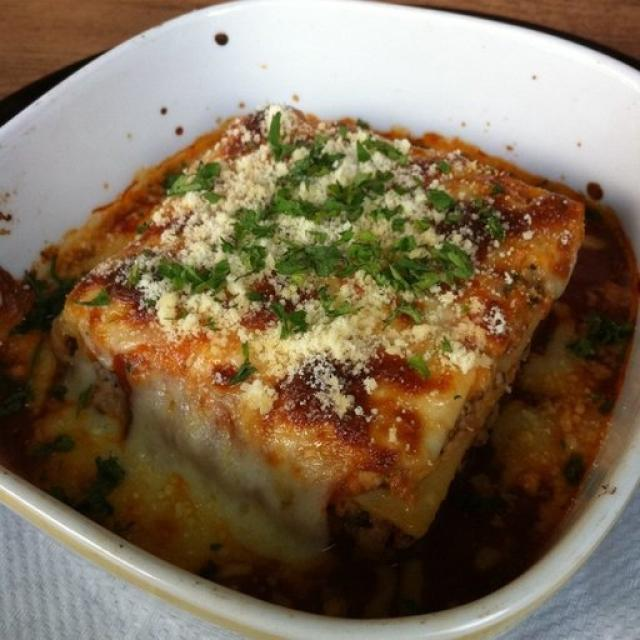Lasagna: (53, 95, 563, 544)
